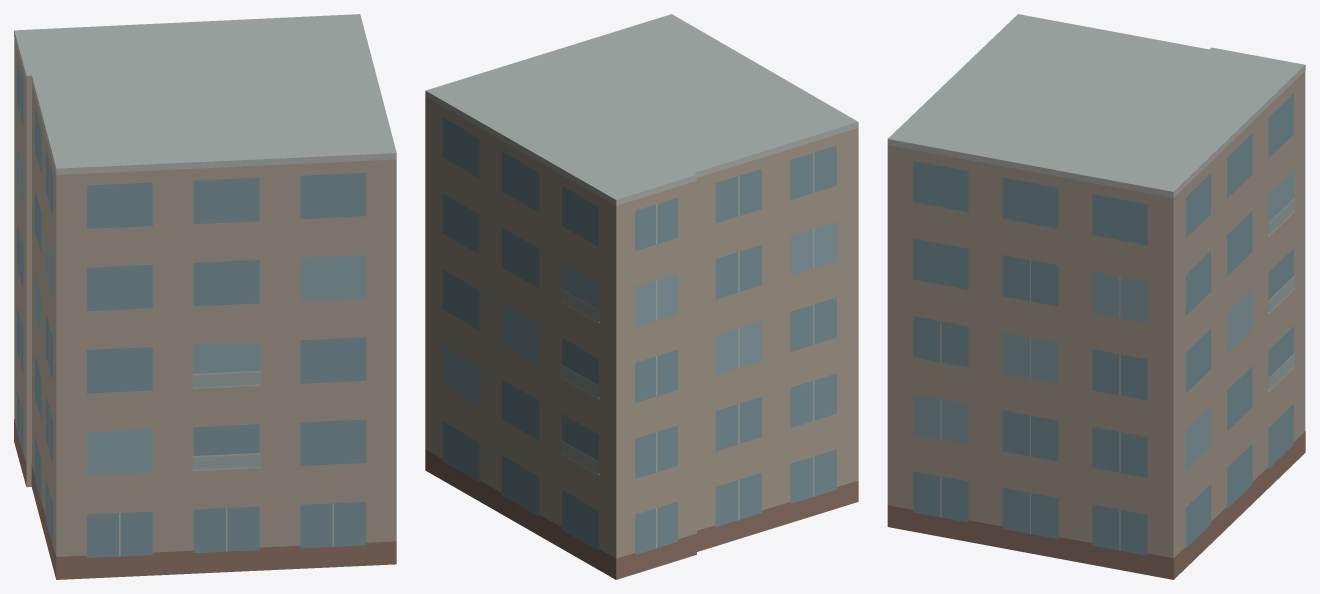
Rendered from survey-upis-33039375.glb.
The picture shows the model from 3 angles, left to right: view 1: azimuth 30°, elevation 25°; view 2: azimuth 150°, elevation 25°; view 3: azimuth 270°, elevation 25°; orthographic projection. The views are drawn at different scales.
Visible parts, largest first — view 1: survey-upis-33039375.tmp; view 2: survey-upis-33039375.tmp; view 3: survey-upis-33039375.tmp.
Part boxes in pixels (box(x1,y1,x2,y2)): survey-upis-33039375.tmp: box(14, 14, 396, 579); survey-upis-33039375.tmp: box(425, 14, 858, 579); survey-upis-33039375.tmp: box(887, 14, 1305, 579).
Size of the model in its own units: 15.5 by 15.75 by 15.38.
